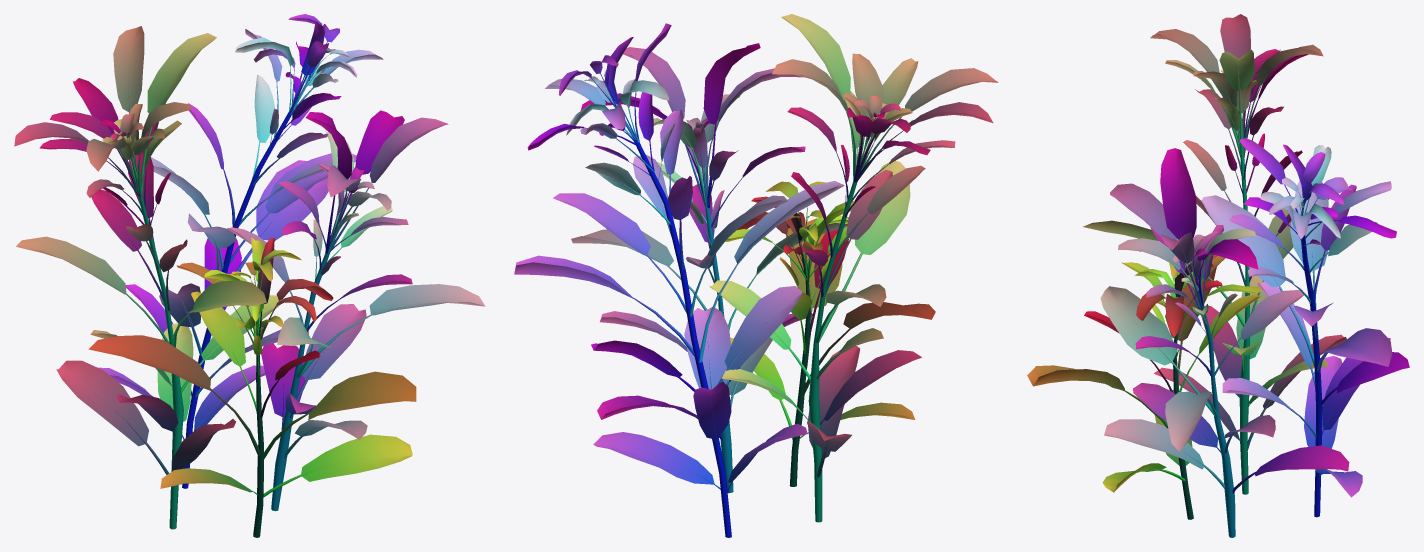
Rendered from Sage_ve3gbfoja_Mid_ve3gbfoja_VarG_LOD0.fbx.
3 views of the same model, side by side, from view 1: azimuth 30°, elevation 25°; view 2: azimuth 150°, elevation 25°; view 3: azimuth 270°, elevation 25° (orthographic). The views are drawn at different scales.
Visible parts, largest first — view 1: _rebp_VarG_LOD1; view 2: _rebp_VarG_LOD1; view 3: _rebp_VarG_LOD1.
Boxes of the visible parts, bbox=[...] form: _rebp_VarG_LOD1: bbox=[14, 14, 485, 537]; _rebp_VarG_LOD1: bbox=[514, 14, 998, 537]; _rebp_VarG_LOD1: bbox=[1027, 14, 1409, 537].
Bounding box in the file's own units: 32.6 × 34.29 × 26.05.
